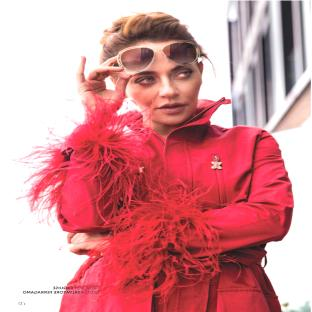Human: (27, 12, 294, 312)
